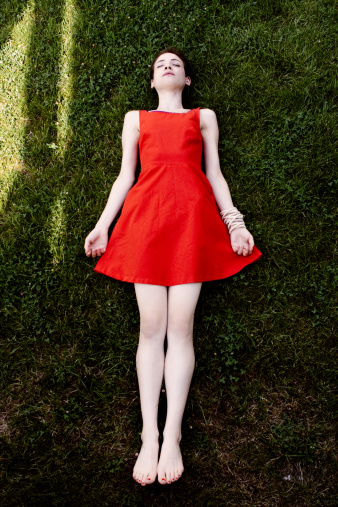deitado: (90, 27, 245, 489)
